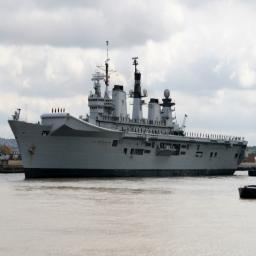Portanaves: (7, 38, 249, 184)
